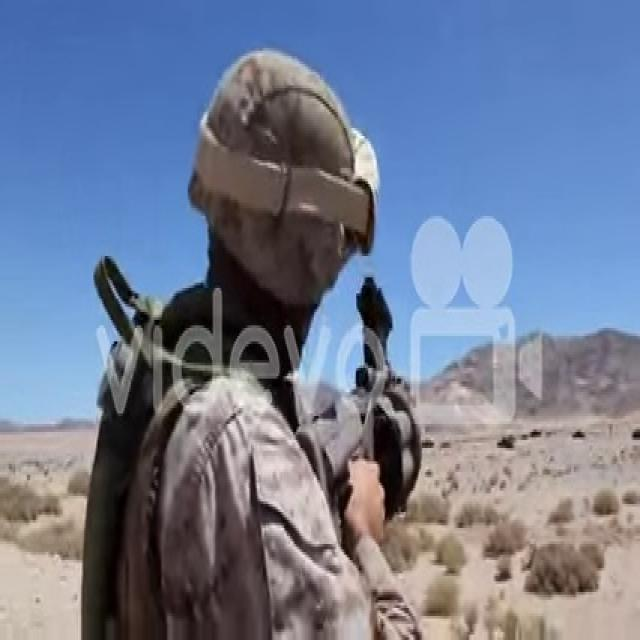bazooka: (308, 274, 422, 515)
